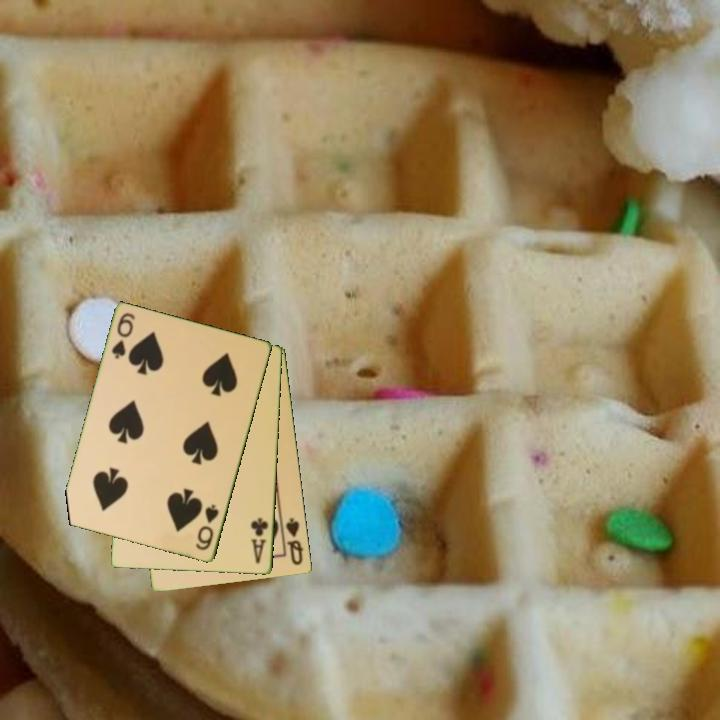6s: (192, 501, 222, 554), (108, 309, 138, 362)
Ac: (248, 515, 271, 567)
Qs: (282, 514, 306, 568)
